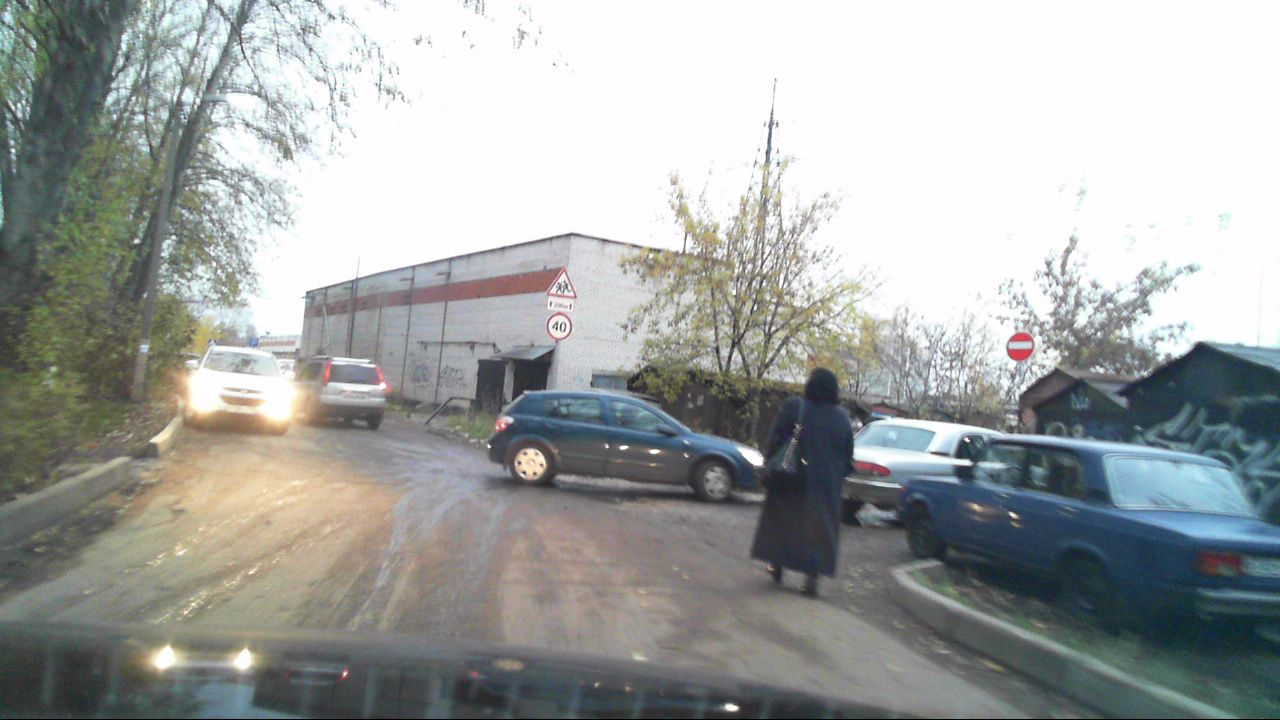speed_warning_40: (548, 315, 572, 339)
